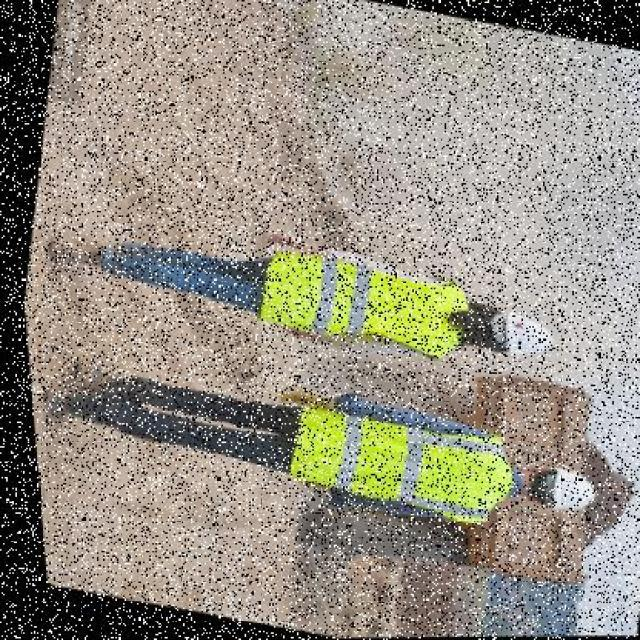helmet: (482, 305, 560, 367), (528, 462, 596, 524)
vest: (266, 392, 516, 534), (240, 240, 478, 370)
